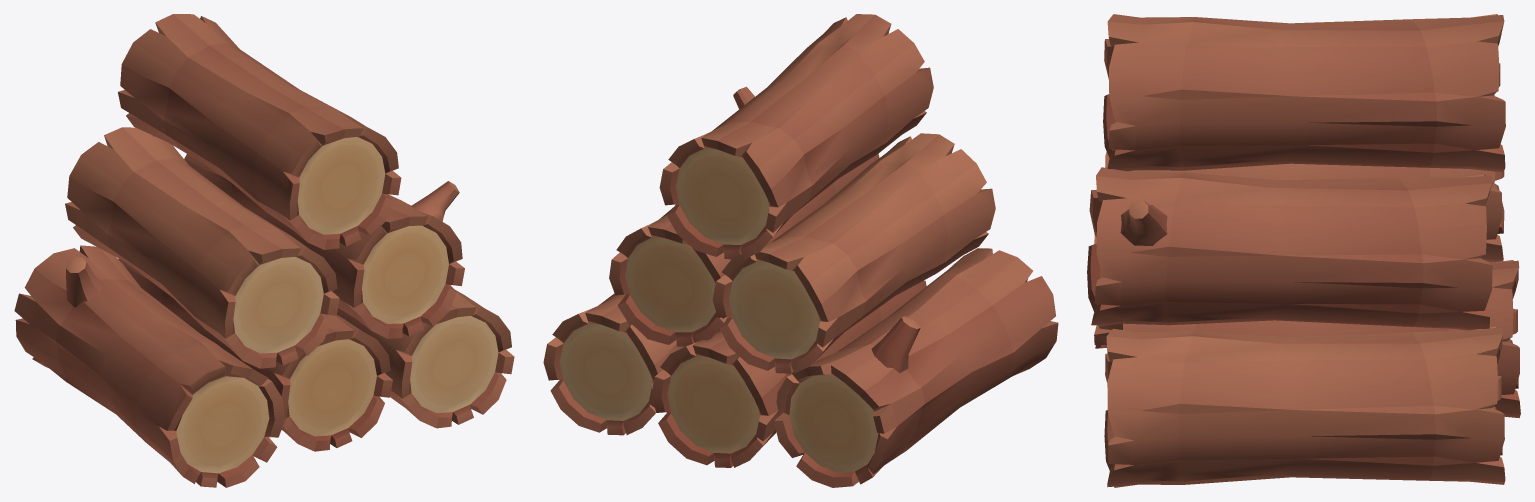
The model's file is kk_log_stack.glb.
The picture shows the model from 3 angles, left to right: view 1: azimuth 30°, elevation 25°; view 2: azimuth 150°, elevation 25°; view 3: azimuth 270°, elevation 25°; orthographic projection. The views are drawn at different scales.
Visible parts, largest first — view 1: Wood_Log_Stack; view 2: Wood_Log_Stack; view 3: Wood_Log_Stack.
Boxes of the visible parts, bbox=[...] form: Wood_Log_Stack: bbox=[14, 14, 514, 487]; Wood_Log_Stack: bbox=[543, 14, 1058, 487]; Wood_Log_Stack: bbox=[1087, 14, 1520, 487].
Size of the model in its own units: 1.5 by 1.34 by 1.34.
Materials: 1 (1 with a texture image).
